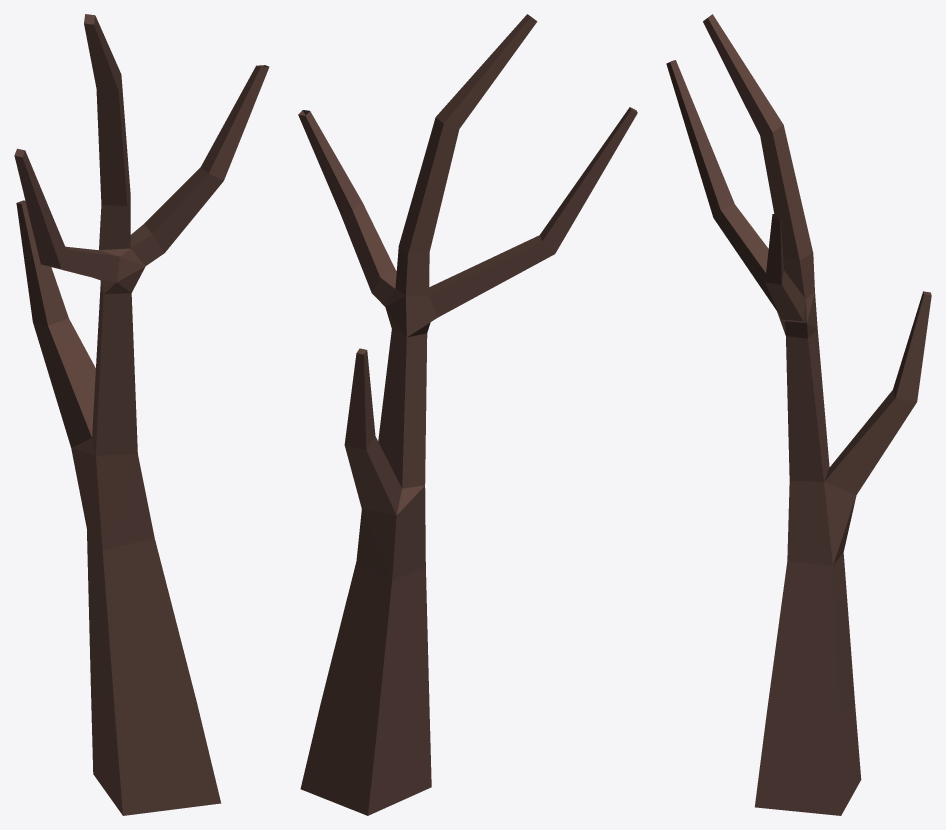
File: PlainsTreeDead.fbx
3 views of the same model, side by side, from view 1: azimuth 30°, elevation 25°; view 2: azimuth 150°, elevation 25°; view 3: azimuth 270°, elevation 25° (orthographic). The views are drawn at different scales.
Visible parts, largest first — view 1: PlainsTreeDead; view 2: PlainsTreeDead; view 3: PlainsTreeDead.
Part boxes in pixels (box(x1,y1,x2,y2)): PlainsTreeDead: box(14, 14, 269, 815); PlainsTreeDead: box(298, 14, 637, 815); PlainsTreeDead: box(666, 14, 931, 815).
Size of the model in its own units: 1.96 by 5.05 by 1.67.
